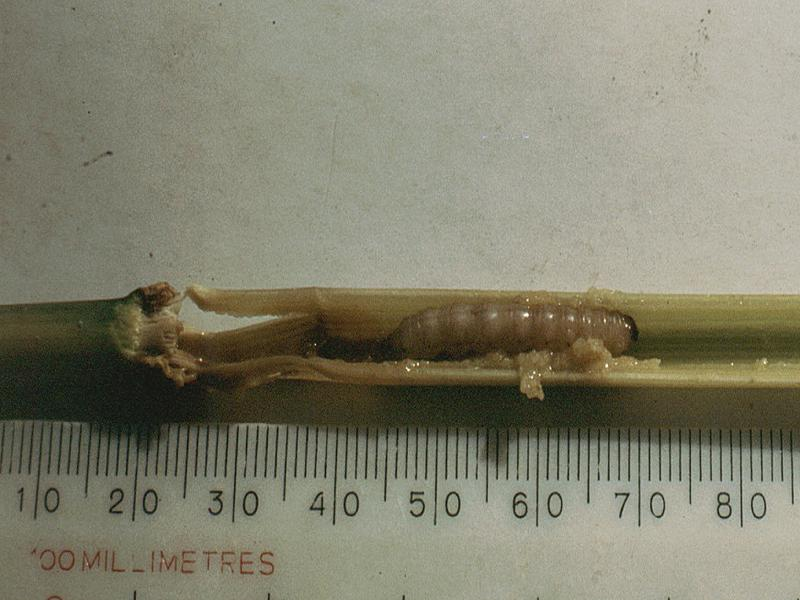Rice_horned_caterpillar: (356, 291, 673, 375)
